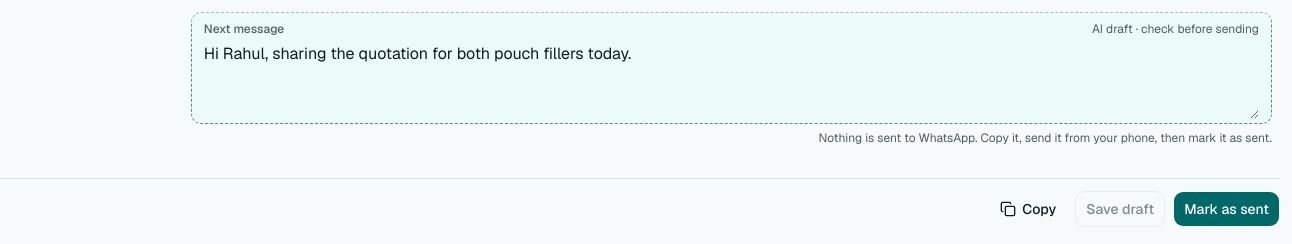
DraftComposer › does not allow sending an empty message
Clear the text box labelled "Next message AI draft · check before sending": (731, 80) x1=204 y1=41 x2=1259 y2=119
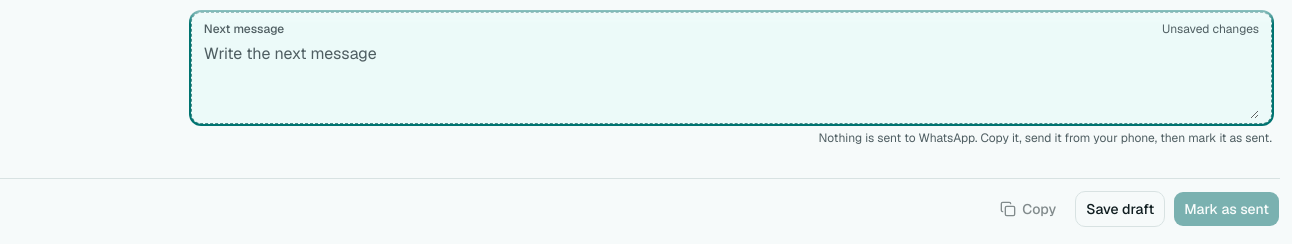
Expected: the button "Mark as sent" is disabled, x1=1173 y1=191 x2=1280 y2=227
